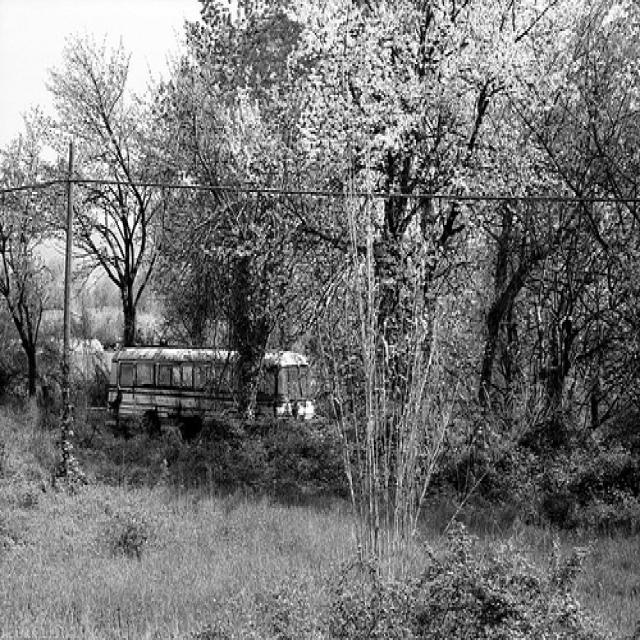bus: (106, 345, 315, 438)
